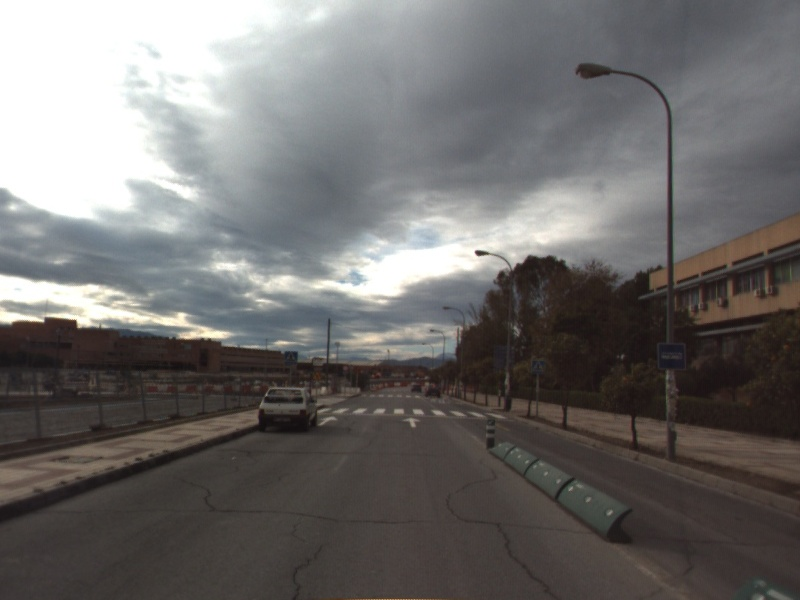STRAIGHT: (315, 414, 340, 427), (401, 415, 423, 429)
